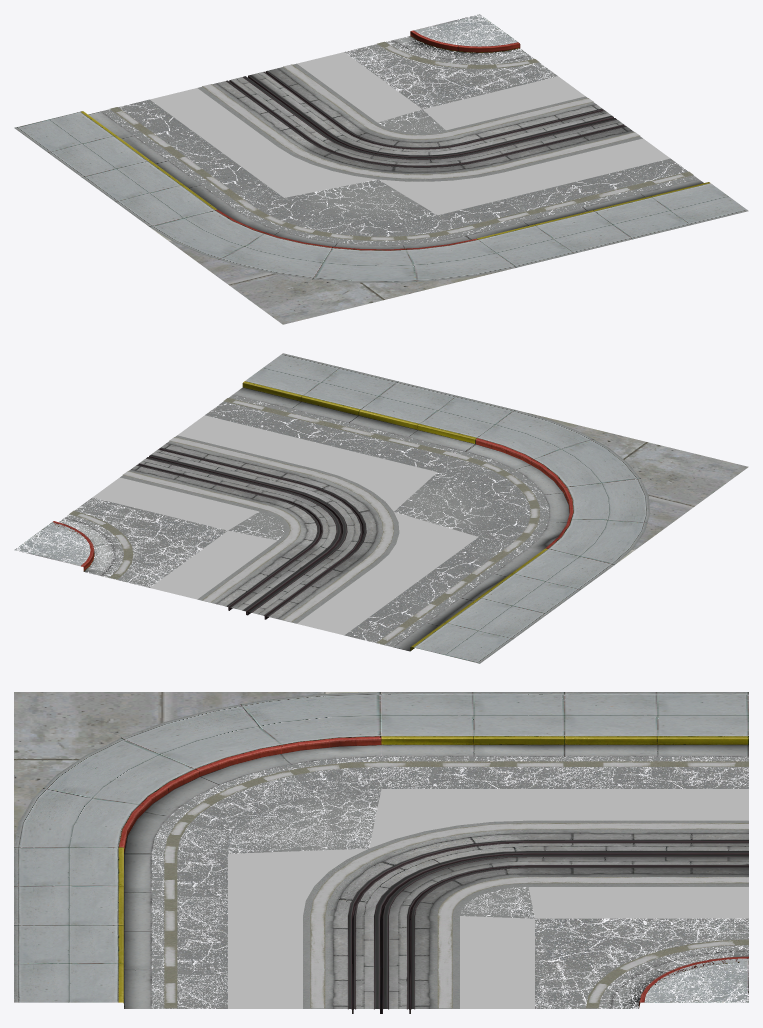
File: RoadRail_Turn.obj
3 views of the same model, one above another, from view 1: azimuth 30°, elevation 25°; view 2: azimuth 150°, elevation 25°; view 3: azimuth 270°, elevation 25° (orthographic). The views are drawn at different scales.
Visible parts, largest first — view 1: Road_Rail-Turn; view 2: Road_Rail-Turn; view 3: Road_Rail-Turn.
Boxes of the visible parts, x1,y1,x2,y2 form: Road_Rail-Turn: (14,14,748,324); Road_Rail-Turn: (14,353,748,663); Road_Rail-Turn: (14,692,748,1013).
Bounding box in the file's own units: 20 × 0.34 × 20.
